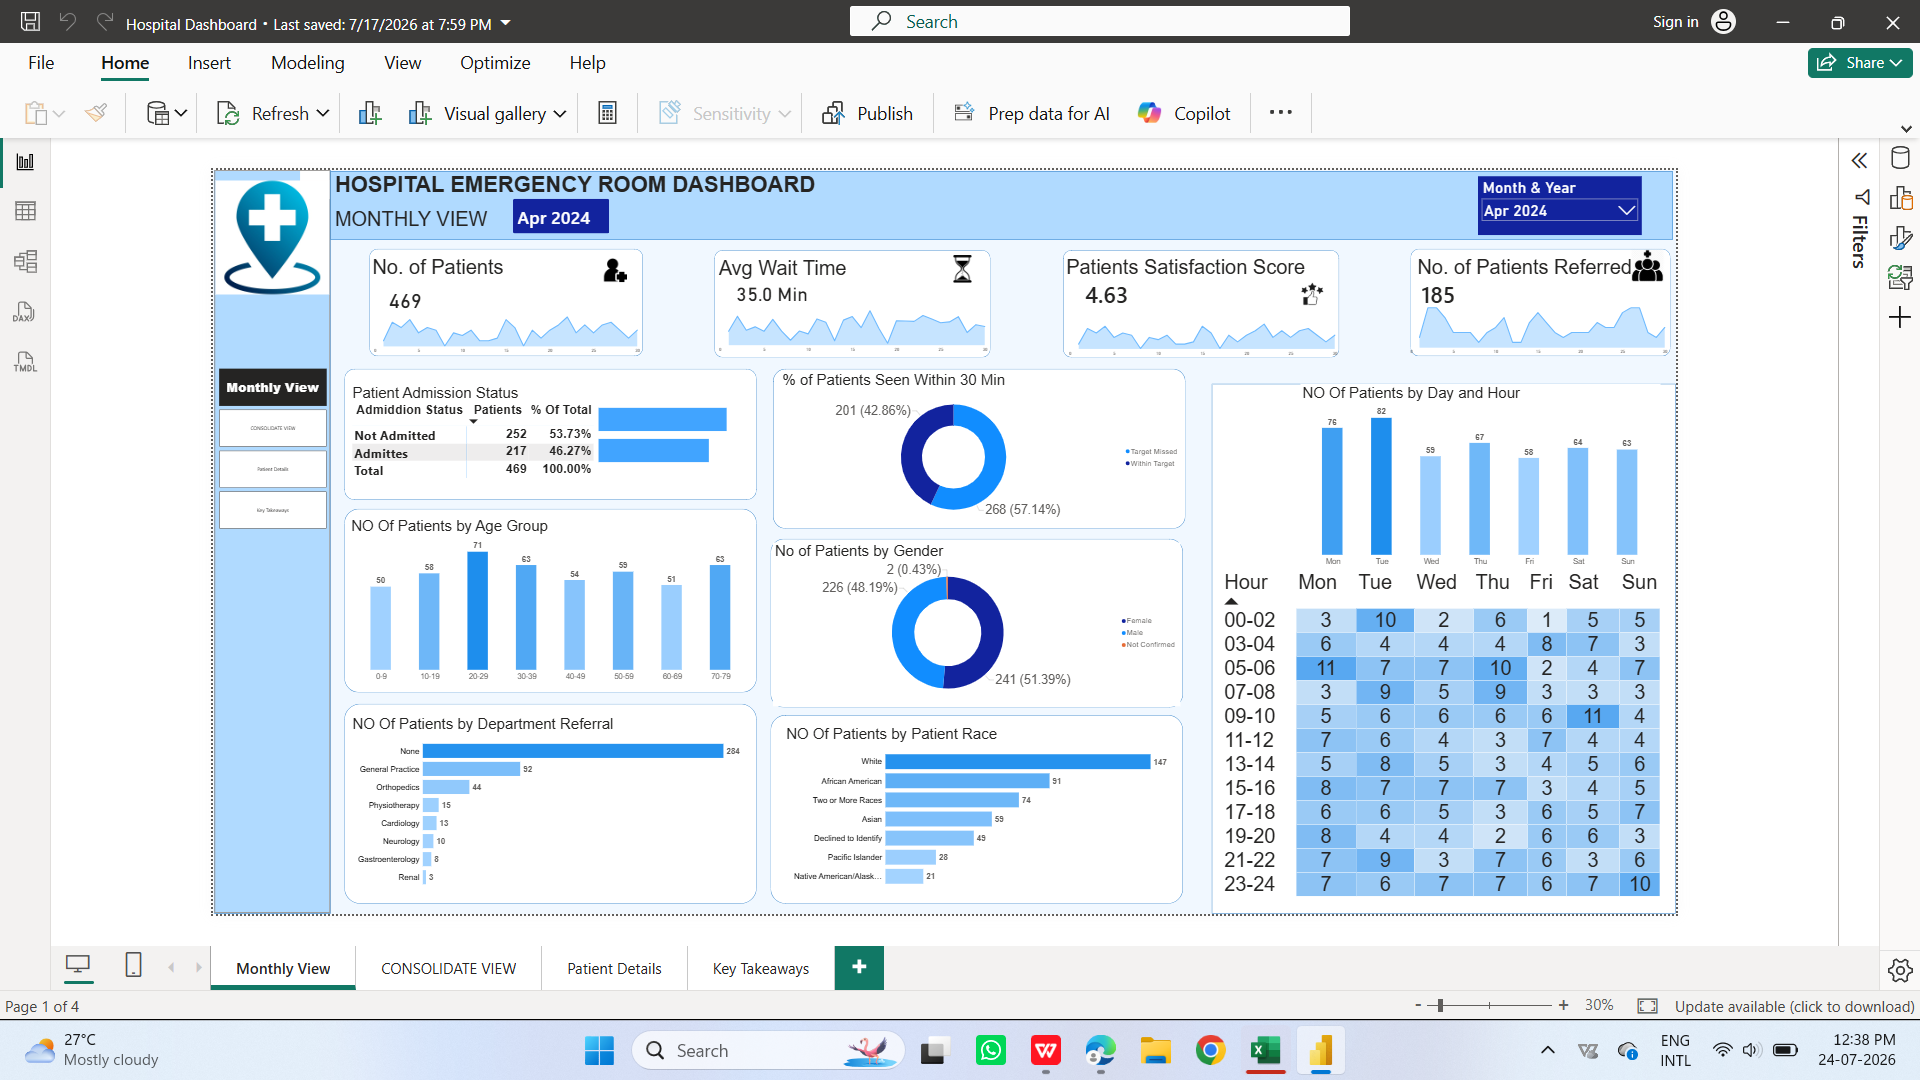

The dashboard page shown, as its layout file describes it:
{"tool":"powerbi","page":{"name":"Monthly View","canvas":[3900,1984],"ordinal":0},"visuals":[{"type":"shape","box":[416.7,210,730,286.7],"z":0},{"type":"shape","box":[313.3,3.3,3580,183.3],"z":1000},{"type":"textbox","box":[320,0,1573.3,143.3],"z":2000},{"type":"shape","box":[3.3,0,310,1983.3],"z":3000},{"type":"textbox","box":[320,96.7,543.3,76.7],"z":4000},{"type":"cardVisual","fields":{"Data":["Hospital ER_Data.NO Of Patients"]},"box":[420,283.3,186.7,126.7],"z":5000},{"type":"shape","box":[350,530,1100,350],"z":6000},{"type":"textbox","box":[420,223.3,363.3,76.7],"z":7000},{"type":"areaChart","fields":{"Category":["Date Table.Date.Variation.Date Hierarchy.Day"],"Y":["Hospital ER_Data.NO Of Patients"]},"box":[416.7,350,730,146.7],"z":8000},{"type":"slicer","fields":{"Values":["Date Table.Month & Year"]},"box":[3373.3,16.7,436.7,156.7],"z":9000},{"type":"cardVisual","fields":{"Data":["Min(Date Table.Month & Year)"]},"box":[783.3,60,290,126.7],"z":10000},{"type":"shape","box":[1337.8,213.3,736.7,286.7],"z":11000},{"type":"shape","box":[3193.3,210,693.3,286.7],"z":12000},{"type":"shape","box":[2265.6,213.3,736.7,286.7],"z":13000},{"type":"textbox","box":[1343.3,226.7,363.3,76.7],"z":14000},{"type":"textbox","box":[2270,223.3,703.3,76.7],"z":15000},{"type":"textbox","box":[3206.7,223.3,603.3,76.7],"z":16000},{"type":"cardVisual","fields":{"Data":["Hospital ER_Data.No of Patient Referred"]},"box":[3193.3,283.3,180,90],"z":17000},{"type":"cardVisual","fields":{"Data":["Hospital ER_Data.Satisfaction Score"]},"box":[2296.7,283.3,206.7,90],"z":18000},{"type":"cardVisual","fields":{"Data":["Hospital ER_Data.Avg Wait Time"]},"box":[1366.7,283.3,253.3,93.3],"z":19000},{"type":"areaChart","fields":{"Category":["Date Table.Date.Variation.Date Hierarchy.Day"],"Y":["Hospital ER_Data.No of Patient Referred"]},"box":[3180,353.3,706.7,146.7],"z":20000},{"type":"areaChart","fields":{"Category":["Date Table.Date.Variation.Date Hierarchy.Day"],"Y":["Hospital ER_Data.NO Of Patients"]},"box":[2270,373.3,736.7,130],"z":21000},{"type":"areaChart","fields":{"Category":["Date Table.Date.Variation.Date Hierarchy.Day"],"Y":["Avg(Hospital ER_Data.Patient Waittime)"]},"box":[1336.7,346.7,736.7,146.7],"z":22000},{"type":"pivotTable","title":"Patient Admission Status","fields":{"Rows":["Hospital ER_Data.Admiddion Status"],"Values":["Hospital ER_Data.NO Of Patients1","Divide(Hospital ER_Data.NO Of Patients, ScopedEval(Hospital ER_Data.NO Of Patients, []))"]},"box":[366.7,570,1043.3,296.7],"z":23000},{"type":"barChart","fields":{"Category":["Hospital ER_Data.Admiddion Status"],"Y":["Hospital ER_Data.NO Of Patients"]},"box":[1023.3,580,416.7,250],"z":24000},{"type":"shape","box":[350,903.3,1100,490],"z":25000},{"type":"clusteredColumnChart","fields":{"Category":["Hospital ER_Data.Age Group"],"Y":["Hospital ER_Data.NO Of Patients"]},"box":[363.3,926.7,1076.7,443.3],"z":26000},{"type":"shape","box":[350,1423.3,1100,533.3],"z":27000},{"type":"shape","box":[1486.7,983.3,1100,450],"z":28000},{"type":"clusteredBarChart","fields":{"Category":["Hospital ER_Data.Department Referral"],"Y":["Hospital ER_Data.NO Of Patients"]},"box":[366.7,1453.3,1043.3,476.7],"z":29000},{"type":"shape","box":[1493.3,530,1100,426.7],"z":30000},{"type":"shape","box":[2663.3,570,1236.7,1413.3],"z":31000},{"type":"donutChart","title":"% of Patients Seen Within 30 Min","fields":{"Category":["Hospital ER_Data.Waittime Status"],"Y":["Hospital ER_Data.NO Of Patients"]},"box":[1513.3,536.7,1073.3,413.3],"z":32000},{"type":"donutChart","title":"No of Patients by Gender","fields":{"Category":["Hospital ER_Data.Patient Gender"],"Y":["Hospital ER_Data.NO Of Patients"]},"box":[1493.3,993.3,1086.7,436.7],"z":33000},{"type":"shape","box":[1486.7,1453.3,1100,503.3],"z":34000},{"type":"clusteredBarChart","fields":{"Category":["Hospital ER_Data.Patient Race"],"Y":["Hospital ER_Data.NO Of Patients"]},"box":[1523.3,1480,1026.7,450],"z":35000},{"type":"pivotTable","fields":{"Columns":["Date Table.Day Name"],"Rows":["Hospital ER_Data.Waittime Interval"],"Values":["Hospital ER_Data.NO Of Patients"]},"box":[2686.7,1063.3,1200,893.3],"z":36000},{"type":"columnChart","title":"NO Of Patients by Day and Hour","fields":{"Category":["Date Table.Day Name"],"Y":["Hospital ER_Data.NO Of Patients"]},"box":[2900,570,960,493.3],"z":37000},{"type":"pageNavigator","box":[16.7,530,286.7,426.7],"z":38000},{"type":"image","box":[6.7,0,303.3,360],"z":38001},{"type":"image","box":[996.7,230,150,73.3],"z":38002},{"type":"image","box":[1923.3,226.7,150,73.3],"z":38003},{"type":"image","box":[2856.7,283.3,150,93.3],"z":38004},{"type":"image","box":[3750,210,150,90],"z":38005}]}

Visuals, with their boxes on the page's 3900x1984 design canvas (x1, y1, x2, y2). These are canvas units, not pixel positions in the 1920x1080 screenshot, which may show the page scaled, cropped or inside an application window:
shape: bbox=(417, 210, 1147, 497)
shape: bbox=(313, 3, 3893, 187)
textbox: bbox=(320, 0, 1893, 143)
shape: bbox=(3, 0, 313, 1983)
textbox: bbox=(320, 97, 863, 173)
cardVisual - Hospital ER_Data.NO Of Patients: bbox=(420, 283, 607, 410)
shape: bbox=(350, 530, 1450, 880)
textbox: bbox=(420, 223, 783, 300)
areaChart - Date Table.Date.Variation.Date Hierarchy.Day x Hospital ER_Data.NO Of Patients: bbox=(417, 350, 1147, 497)
slicer - Date Table.Month & Year: bbox=(3373, 17, 3810, 173)
cardVisual - Min(Date Table.Month & Year): bbox=(783, 60, 1073, 187)
shape: bbox=(1338, 213, 2074, 500)
shape: bbox=(3193, 210, 3887, 497)
shape: bbox=(2266, 213, 3002, 500)
textbox: bbox=(1343, 227, 1707, 303)
textbox: bbox=(2270, 223, 2973, 300)
textbox: bbox=(3207, 223, 3810, 300)
cardVisual - Hospital ER_Data.No of Patient Referred: bbox=(3193, 283, 3373, 373)
cardVisual - Hospital ER_Data.Satisfaction Score: bbox=(2297, 283, 2503, 373)
cardVisual - Hospital ER_Data.Avg Wait Time: bbox=(1367, 283, 1620, 377)
areaChart - Date Table.Date.Variation.Date Hierarchy.Day x Hospital ER_Data.No of Patient Referred: bbox=(3180, 353, 3887, 500)
areaChart - Date Table.Date.Variation.Date Hierarchy.Day x Hospital ER_Data.NO Of Patients: bbox=(2270, 373, 3007, 503)
areaChart - Date Table.Date.Variation.Date Hierarchy.Day x Avg(Hospital ER_Data.Patient Waittime): bbox=(1337, 347, 2073, 493)
"Patient Admission Status" pivotTable: bbox=(367, 570, 1410, 867)
barChart - Hospital ER_Data.Admiddion Status x Hospital ER_Data.NO Of Patients: bbox=(1023, 580, 1440, 830)
shape: bbox=(350, 903, 1450, 1393)
clusteredColumnChart - Hospital ER_Data.Age Group x Hospital ER_Data.NO Of Patients: bbox=(363, 927, 1440, 1370)
shape: bbox=(350, 1423, 1450, 1957)
shape: bbox=(1487, 983, 2587, 1433)
clusteredBarChart - Hospital ER_Data.Department Referral x Hospital ER_Data.NO Of Patients: bbox=(367, 1453, 1410, 1930)
shape: bbox=(1493, 530, 2593, 957)
shape: bbox=(2663, 570, 3900, 1983)
"% of Patients Seen Within 30 Min" donutChart: bbox=(1513, 537, 2587, 950)
"No of Patients by Gender" donutChart: bbox=(1493, 993, 2580, 1430)
shape: bbox=(1487, 1453, 2587, 1957)
clusteredBarChart - Hospital ER_Data.Patient Race x Hospital ER_Data.NO Of Patients: bbox=(1523, 1480, 2550, 1930)
pivotTable - Date Table.Day Name x Hospital ER_Data.Waittime Interval: bbox=(2687, 1063, 3887, 1957)
"NO Of Patients by Day and Hour" columnChart: bbox=(2900, 570, 3860, 1063)
pageNavigator: bbox=(17, 530, 303, 957)
image: bbox=(7, 0, 310, 360)
image: bbox=(997, 230, 1147, 303)
image: bbox=(1923, 227, 2073, 300)
image: bbox=(2857, 283, 3007, 377)
image: bbox=(3750, 210, 3900, 300)
